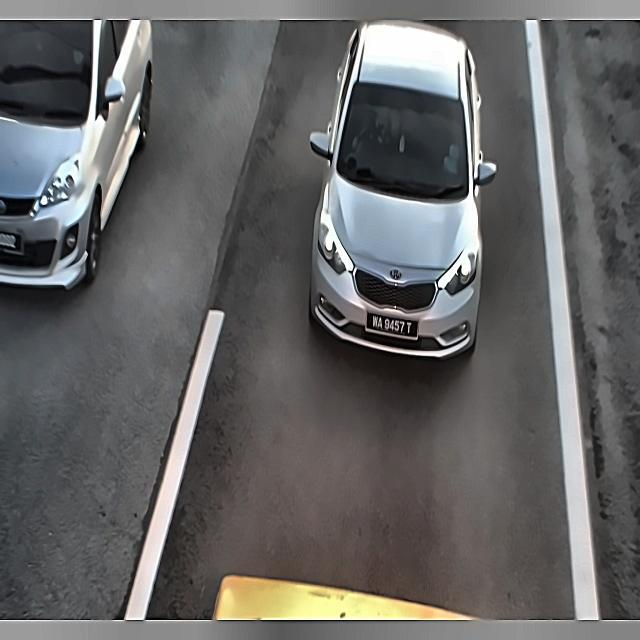car: (362, 309, 423, 344), (0, 229, 24, 257)
